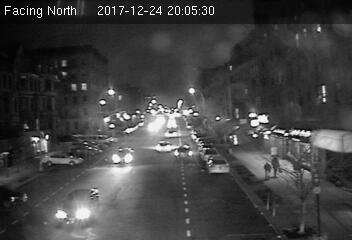car: (55, 187, 99, 226), (110, 146, 136, 166), (205, 156, 229, 174), (174, 144, 192, 159), (155, 141, 173, 153)
